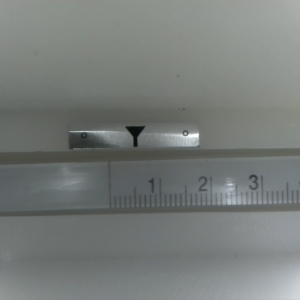1: (147, 177, 154, 192)
2: (197, 176, 207, 191)
3: (247, 175, 257, 190)
finger: (124, 126, 144, 147)
